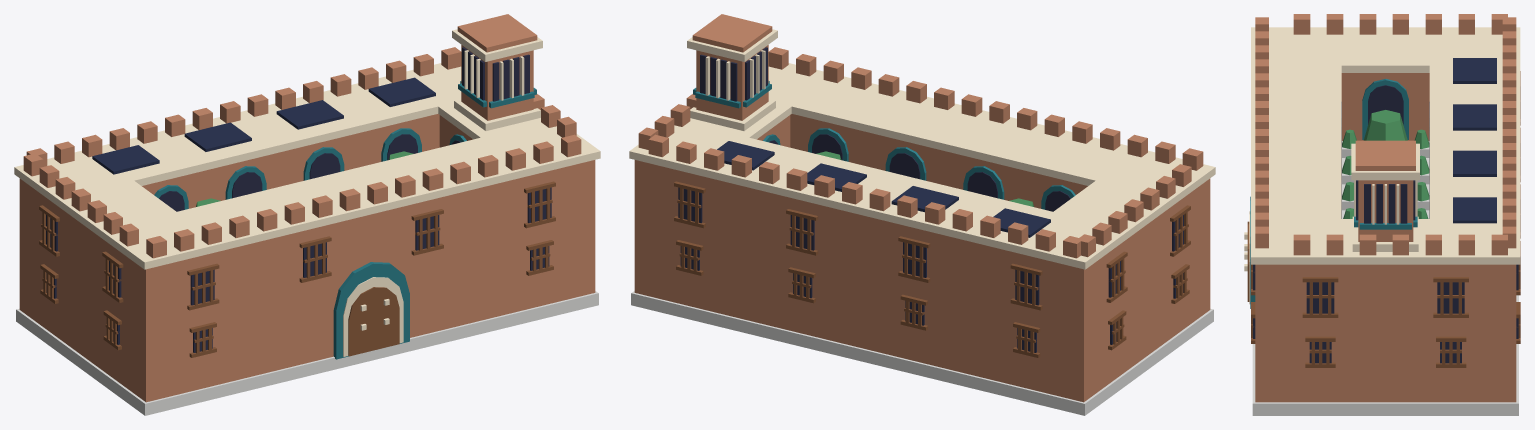
Rendered from house-2x1-2f-riad-a-solar.glb.
3 renders of one model, left to right at view 1: azimuth 30°, elevation 25°; view 2: azimuth 150°, elevation 25°; view 3: azimuth 270°, elevation 25°, orthographic. The views are drawn at different scales.
Visible parts, largest first — view 1: house-2x1-2f-riad-a-solar; view 2: house-2x1-2f-riad-a-solar; view 3: house-2x1-2f-riad-a-solar.
Part boxes in pixels (x1=…): house-2x1-2f-riad-a-solar: x1=14, y1=14, x2=600, y2=415; house-2x1-2f-riad-a-solar: x1=629, y1=14, x2=1215, y2=415; house-2x1-2f-riad-a-solar: x1=1244, y1=14, x2=1520, y2=415.
Size of the model in its own units: 1.98 by 0.98 by 1.01.
Materials: 1 (1 with a texture image).
